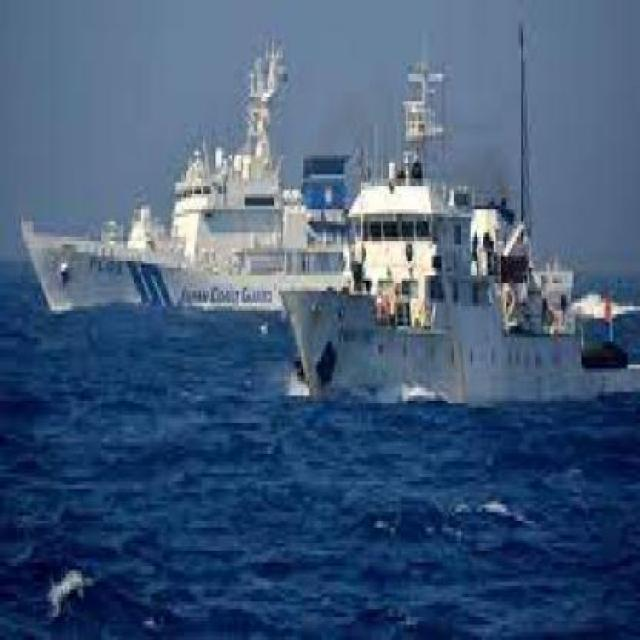fish-b: (269, 9, 640, 420), (15, 28, 367, 326)
